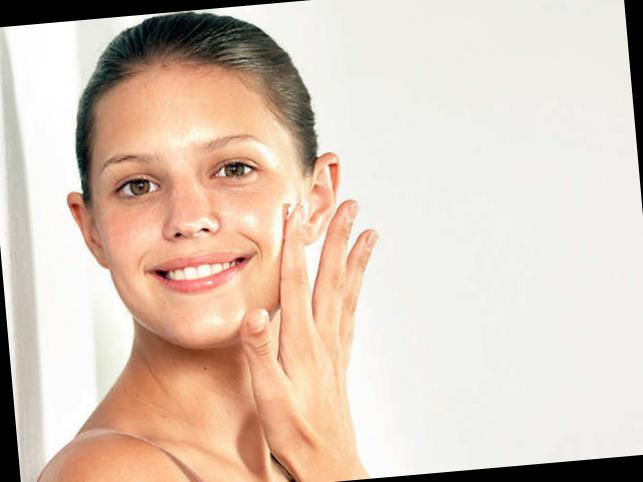Sober: (86, 68, 297, 322)
